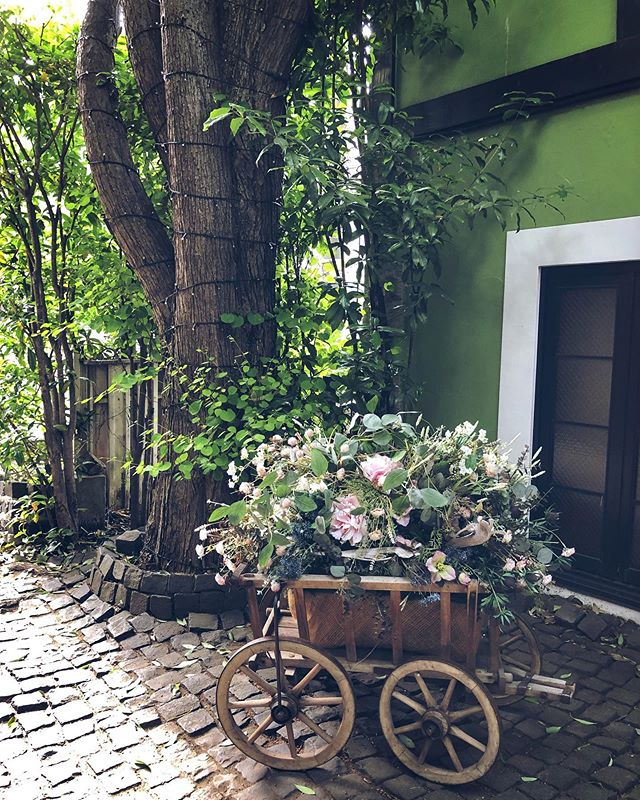tree: (68, 1, 338, 559)
vegetation: (196, 385, 506, 594)
